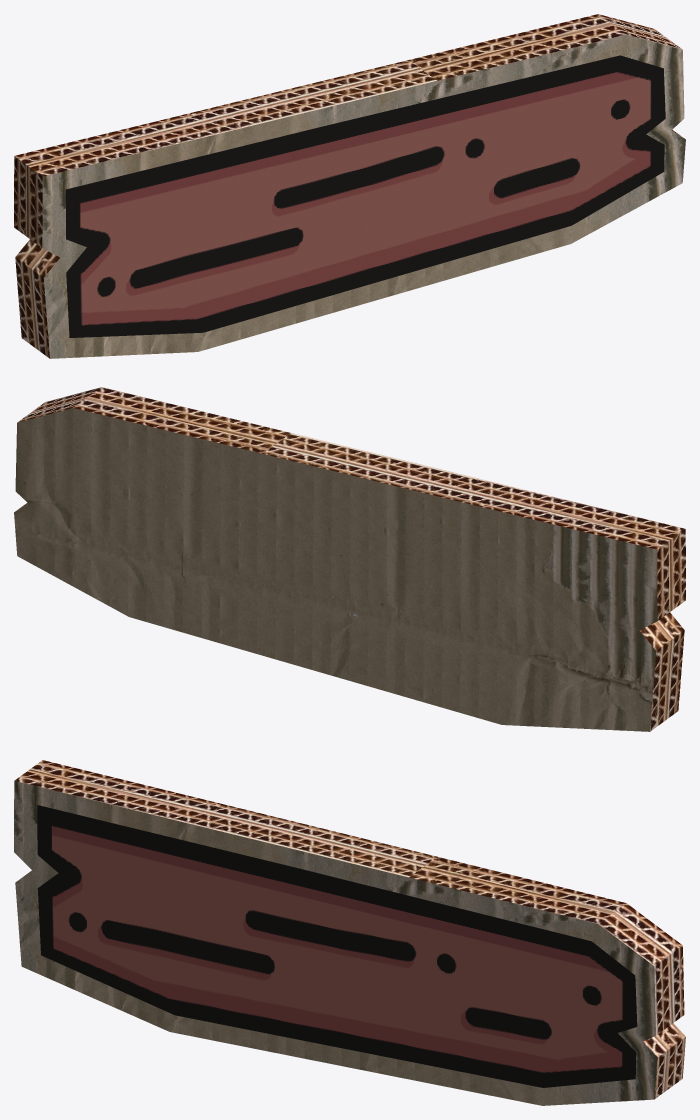
The model's file is wood.fbx.
The picture shows the model from 3 angles, top to bottom: view 1: azimuth 30°, elevation 25°; view 2: azimuth 150°, elevation 25°; view 3: azimuth 330°, elevation 25°; orthographic projection.
Parts seen in each view (by area): view 1: Plane; view 2: Plane; view 3: Plane.
Boxes of the visible parts, x1,y1,x2,y2 form: Plane: (14, 14, 685, 358); Plane: (14, 387, 685, 731); Plane: (14, 760, 685, 1105).
Size of the model in its own units: 104 by 33.06 by 8.
